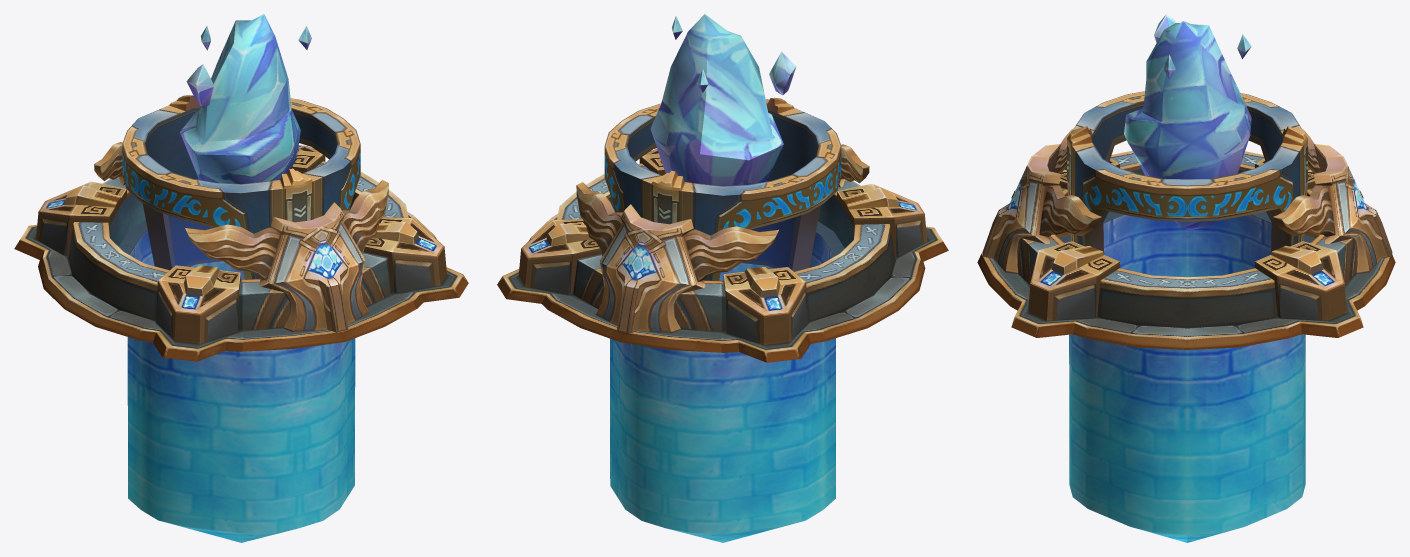
3 renders of one model, left to right at view 1: azimuth 30°, elevation 25°; view 2: azimuth 150°, elevation 25°; view 3: azimuth 270°, elevation 25°, orthographic.
Visible parts, largest first — view 1: Base, Parts, R50510005-crystal001; view 2: Base, Parts, R50510005-crystal001; view 3: Base, Parts, R50510005-crystal001.
Boxes of the visible parts, x1=… form: Base: x1=14, y1=142, x2=468, y2=542; Parts: x1=122, y1=95, x2=360, y2=278; R50510005-crystal001: x1=180, y1=14, x2=311, y2=184; Base: x1=497, y1=144, x2=948, y2=542; Parts: x1=604, y1=97, x2=841, y2=280; R50510005-crystal001: x1=650, y1=14, x2=796, y2=186; Base: x1=977, y1=129, x2=1395, y2=542; Parts: x1=1067, y1=91, x2=1307, y2=254; R50510005-crystal001: x1=1124, y1=14, x2=1251, y2=229.
Bounding box in the file's own units: 2.76 × 3.92 × 2.79.
1 material, 1 textured.
